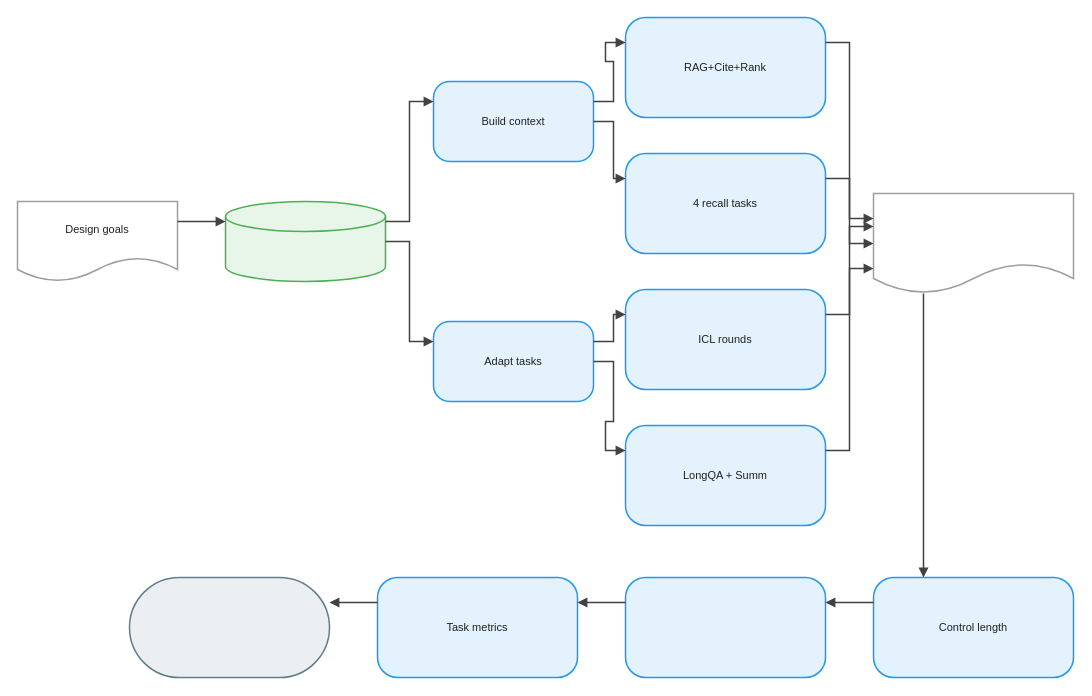
The diagram is 1092 pixels wide and 696 high, and some of its shapes have lost their labels. Here are the shapes that lost their labels. From the top down, the centre of each, then its label:
point 305,241: Source data
point 973,243: 7C · 21 tasks
point 229,627: HELMET suite
point 725,627: Robust prompts
